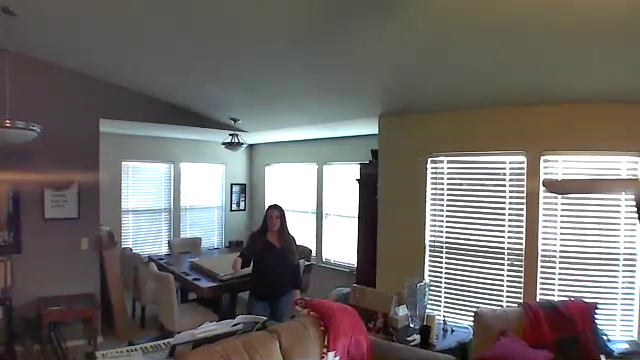down: (225, 251, 250, 284)
